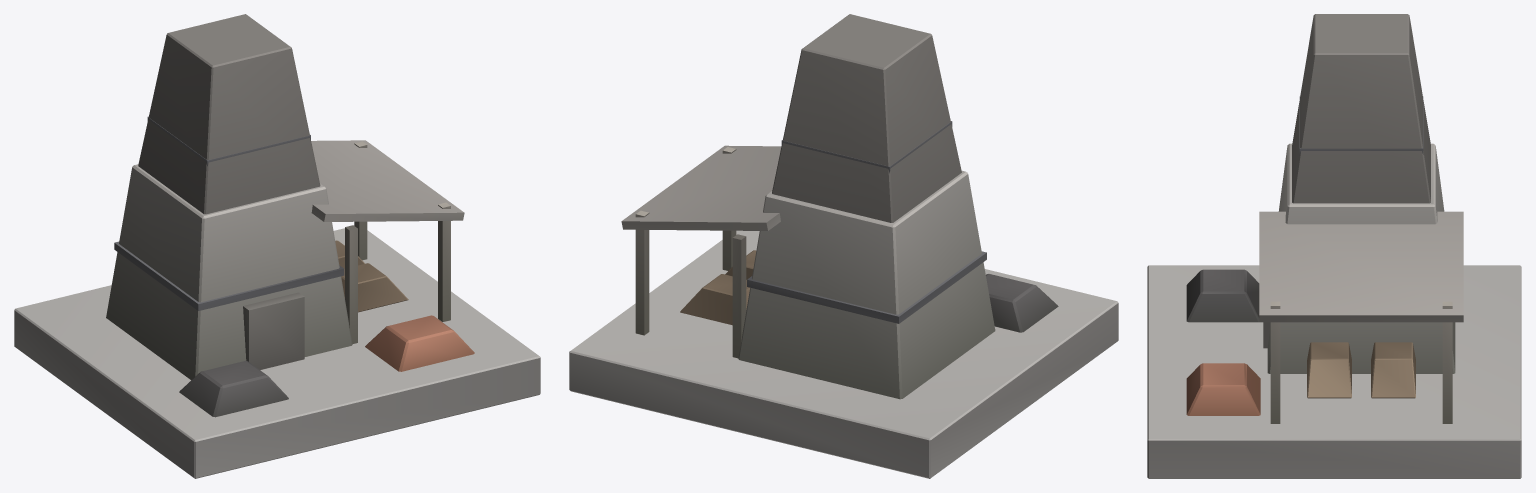
Rendered from smelter_l1_lod0.glb.
3 views of the same model, side by side, from view 1: azimuth 30°, elevation 25°; view 2: azimuth 150°, elevation 25°; view 3: azimuth 270°, elevation 25° (orthographic). The views are drawn at different scales.
Parts seen in each view (by area): view 1: smelter_l1_lod0; view 2: smelter_l1_lod0; view 3: smelter_l1_lod0.
Part boxes in pixels (left/top/right/bottom): smelter_l1_lod0: left=14, top=14, right=540, bottom=478; smelter_l1_lod0: left=569, top=14, right=1118, bottom=478; smelter_l1_lod0: left=1147, top=14, right=1521, bottom=478.
Size of the model in its own units: 8.4 by 7.65 by 7.6.
